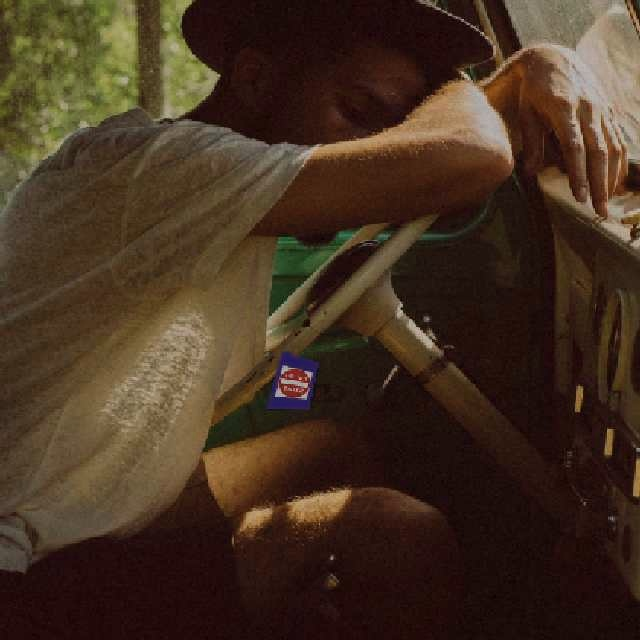DO_NOT_ENTER: (273, 364, 313, 403)
